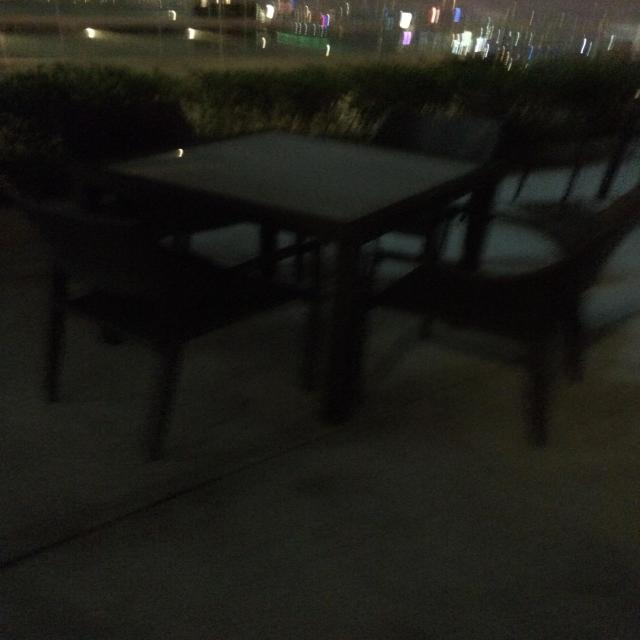Table: (133, 122, 518, 375)
chair: (0, 180, 246, 444), (455, 173, 640, 411), (2, 51, 273, 206)
